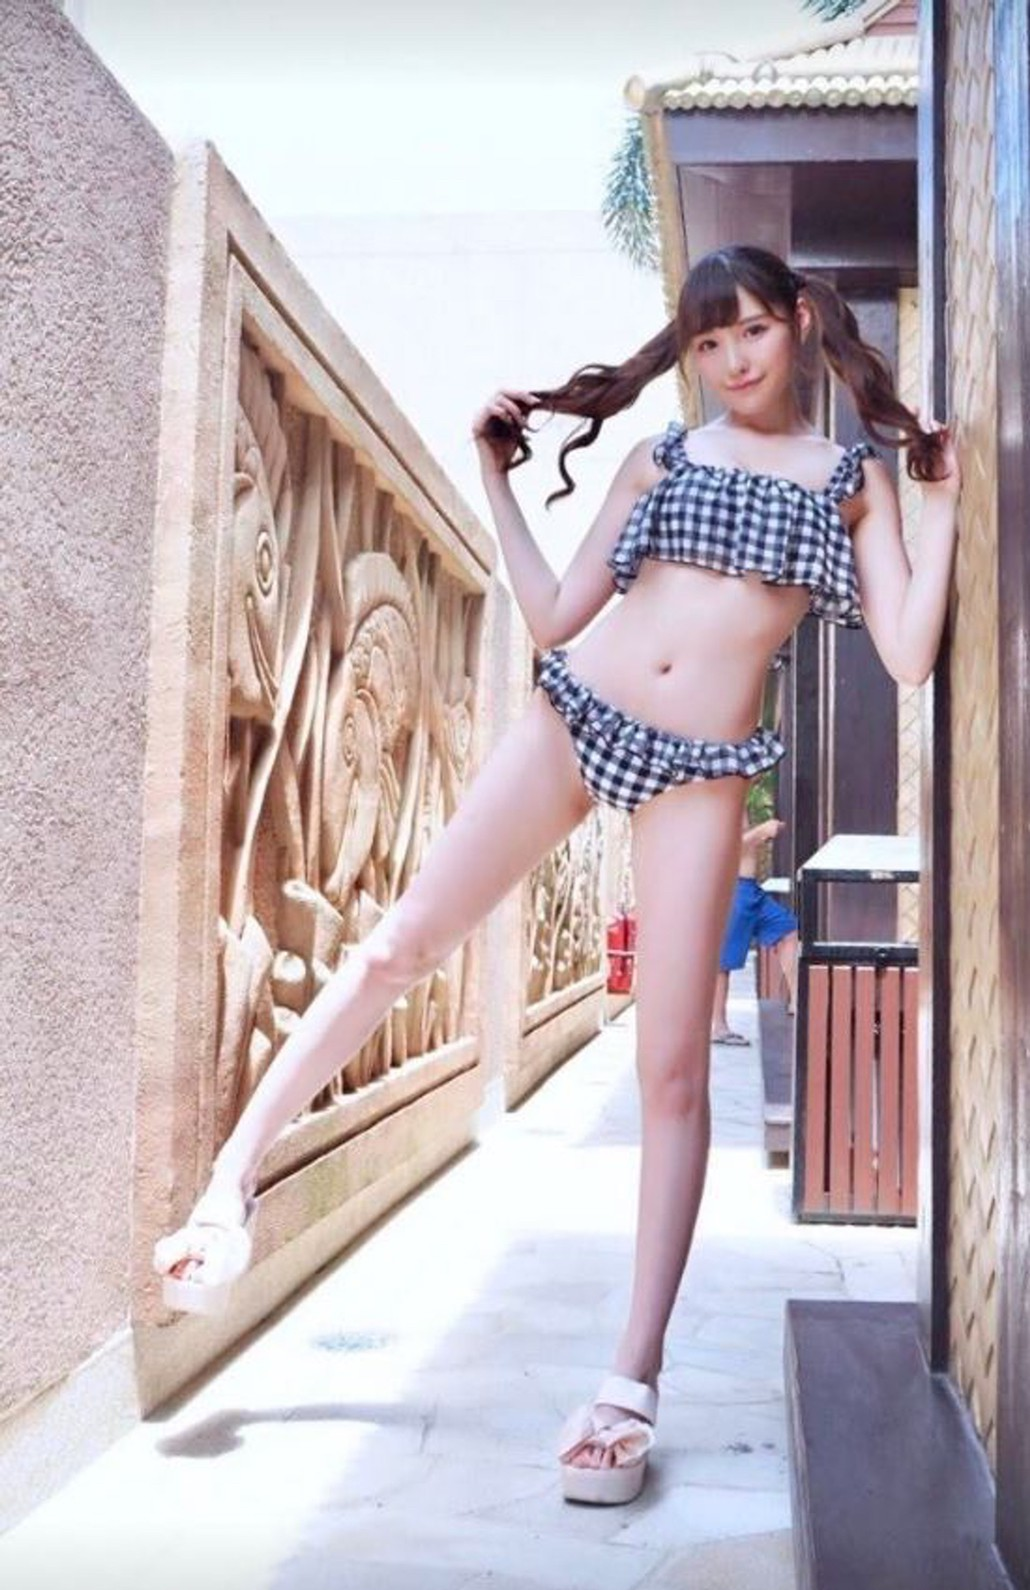people: (408, 257, 870, 1490)
